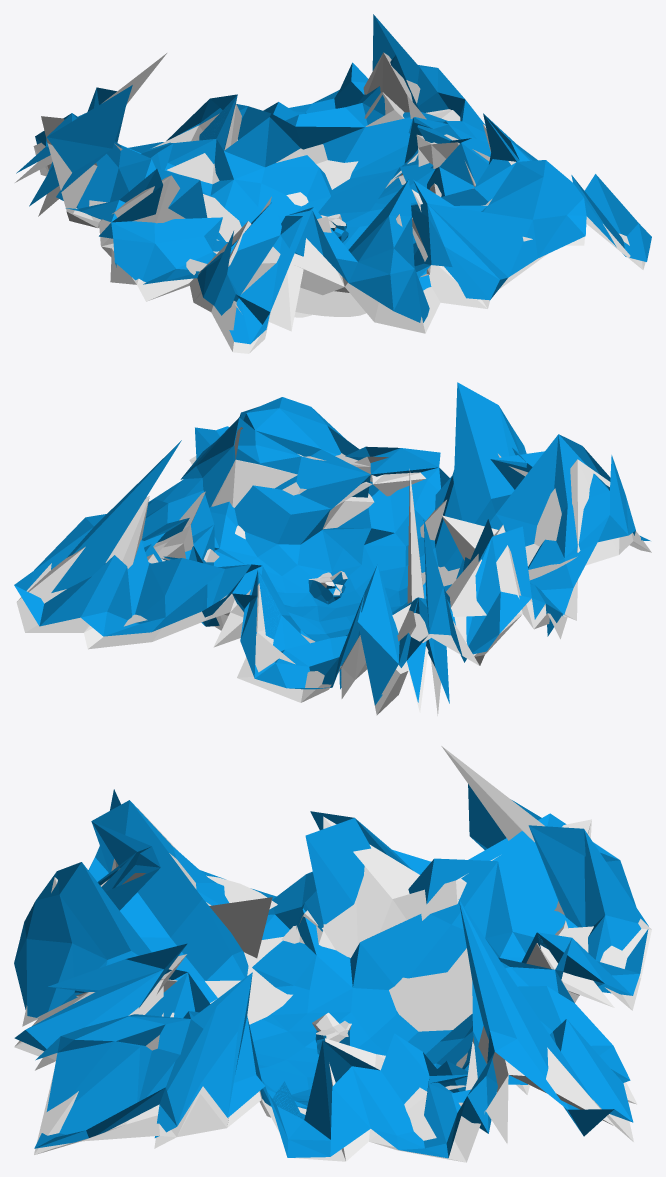
The model's file is icerock.fbx.
The picture shows the model from 3 angles, top to bottom: view 1: azimuth 30°, elevation 25°; view 2: azimuth 150°, elevation 25°; view 3: azimuth 270°, elevation 25°; orthographic projection. The views are drawn at different scales.
Parts seen in each view (by area): view 1: Plane, Plane.001, Cylinder.001, Cylinder; view 2: Plane, Plane.001, Cube.001, Cylinder.001; view 3: Plane, Plane.001, Cylinder, Cylinder.001, Cube.001.
Part boxes in pixels (x1,y1,x2,y2): Plane: (16, 14, 651, 344); Plane.001: (15, 52, 650, 353); Cylinder.001: (186, 259, 366, 316); Cylinder: (203, 194, 311, 317); Plane: (14, 382, 650, 705); Plane.001: (16, 427, 651, 715); Cube.001: (308, 571, 347, 604); Cylinder.001: (421, 556, 577, 586); Plane: (14, 784, 648, 1158); Plane.001: (14, 746, 651, 1162); Cylinder: (389, 948, 472, 1031); Cylinder.001: (205, 875, 292, 1024); Cube.001: (312, 1012, 351, 1054).
Bounding box in the file's own units: 4053 × 2162 × 4141.
